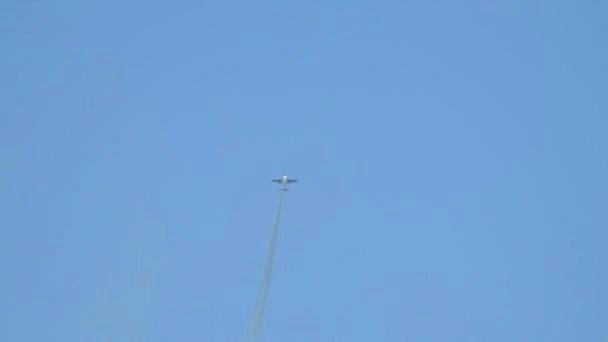Plane: (259, 168, 310, 193)
